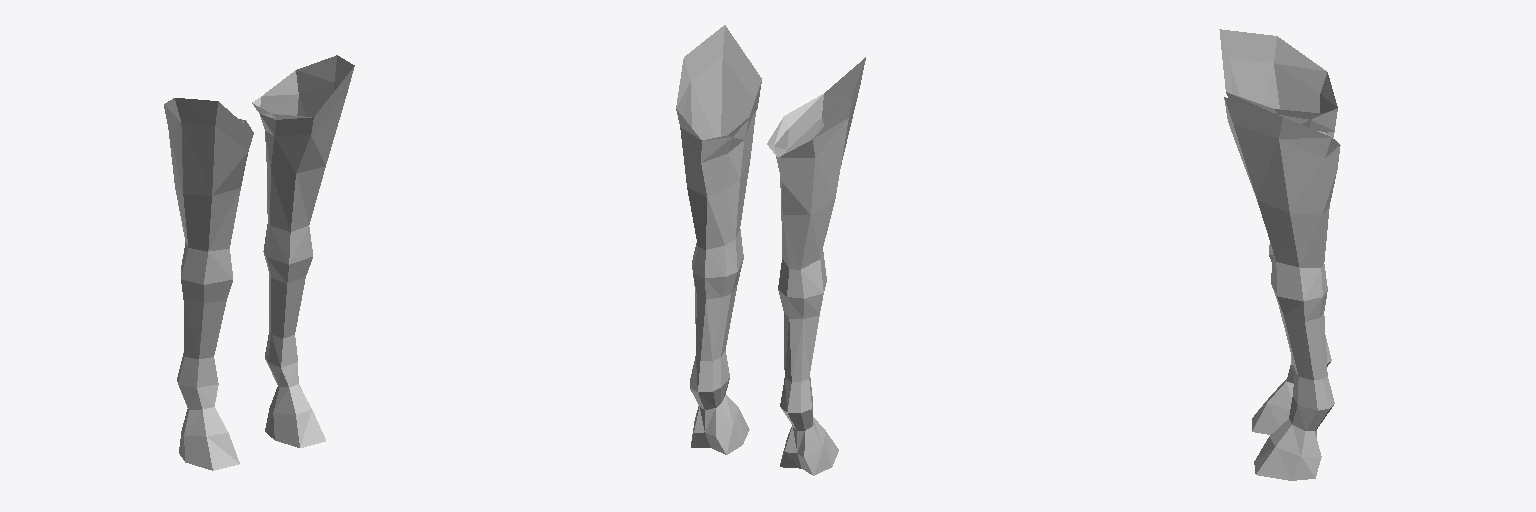
The model's file is PatasDelanterasC.obj.
3 renders of one model, left to right at view 1: azimuth 30°, elevation 25°; view 2: azimuth 150°, elevation 25°; view 3: azimuth 270°, elevation 25°, orthographic.
Parts seen in each view (by area): view 1: Horse_body1.002; view 2: Horse_body1.002; view 3: Horse_body1.002.
Part boxes in pixels (left/top/right/bottom): Horse_body1.002: left=164, top=55, right=354, bottom=470; Horse_body1.002: left=676, top=25, right=865, bottom=475; Horse_body1.002: left=1219, top=29, right=1340, bottom=480.
Bounding box in the file's own units: 2.38 × 5.32 × 1.51.